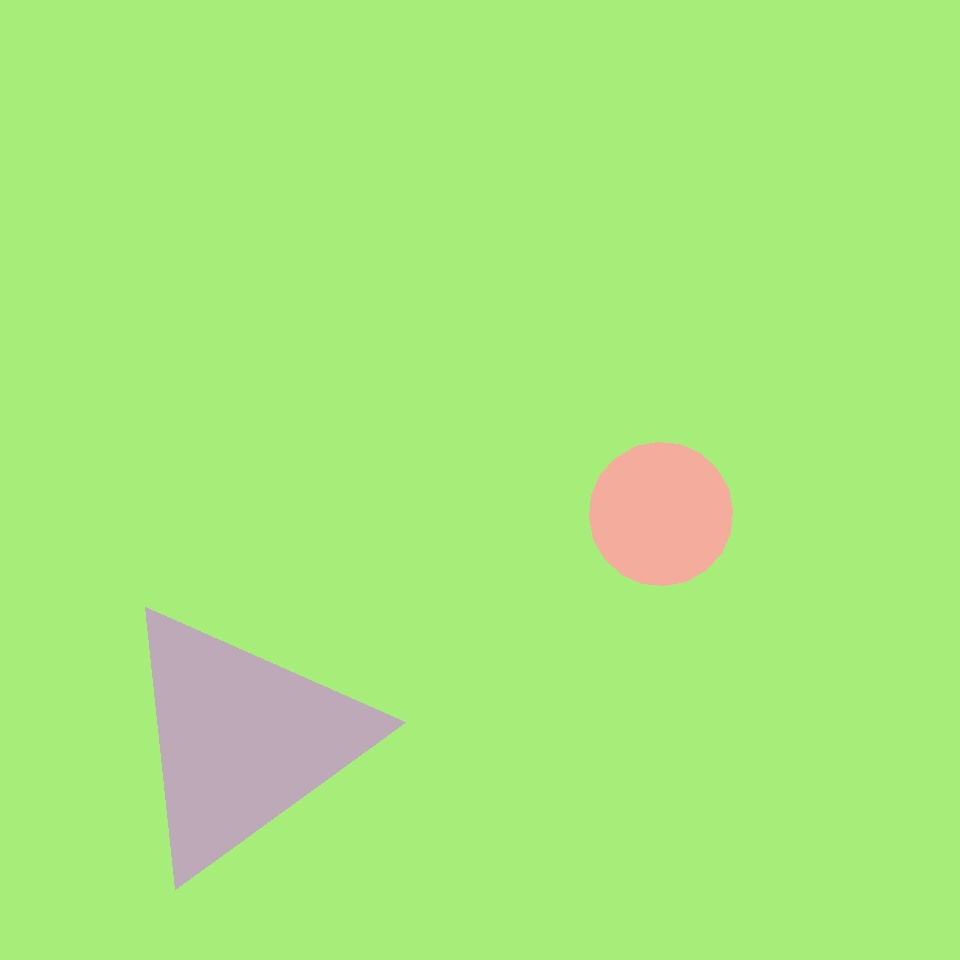circle: (112, 599, 372, 881), (420, 31, 505, 111)
square: (477, 170, 821, 514), (684, 166, 867, 348), (368, 644, 539, 815)
triangle: (590, 442, 732, 586)
